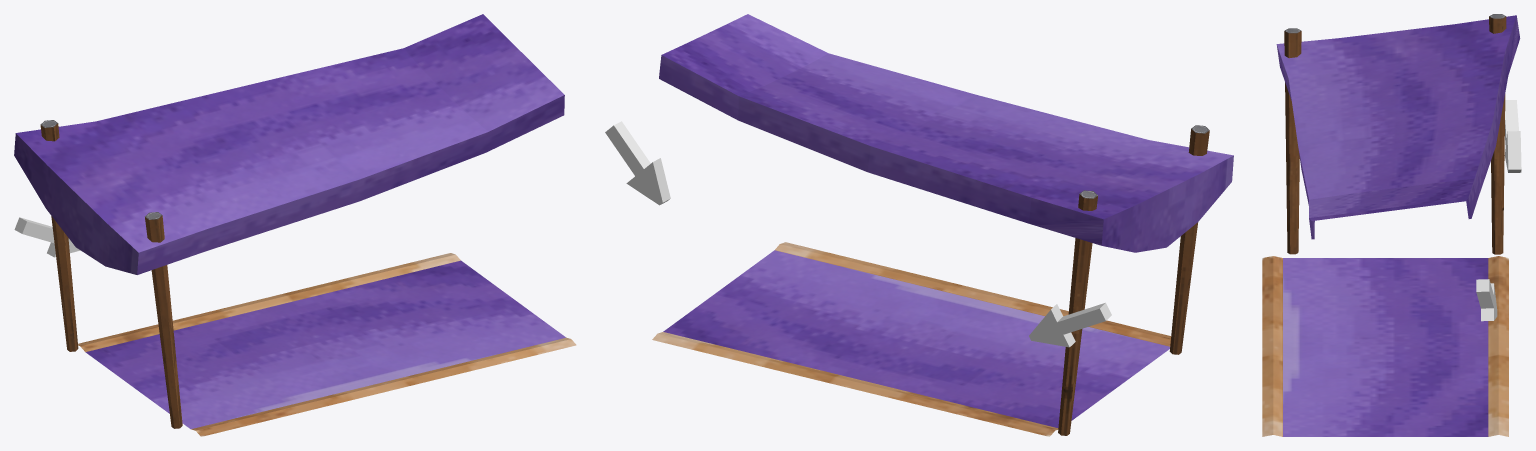
File: Tent.fbx
3 renders of one model, left to right at view 1: azimuth 30°, elevation 25°; view 2: azimuth 150°, elevation 25°; view 3: azimuth 270°, elevation 25°, orthographic. The views are drawn at different scales.
Visible parts, largest first — view 1: Plane.001; view 2: Plane.001; view 3: Plane.001.
Boxes of the visible parts, bbox=[...] form: Plane.001: bbox=[14, 14, 576, 436]; Plane.001: bbox=[605, 14, 1233, 436]; Plane.001: bbox=[1262, 14, 1521, 436].
Size of the model in its own units: 633 by 312 by 299.
